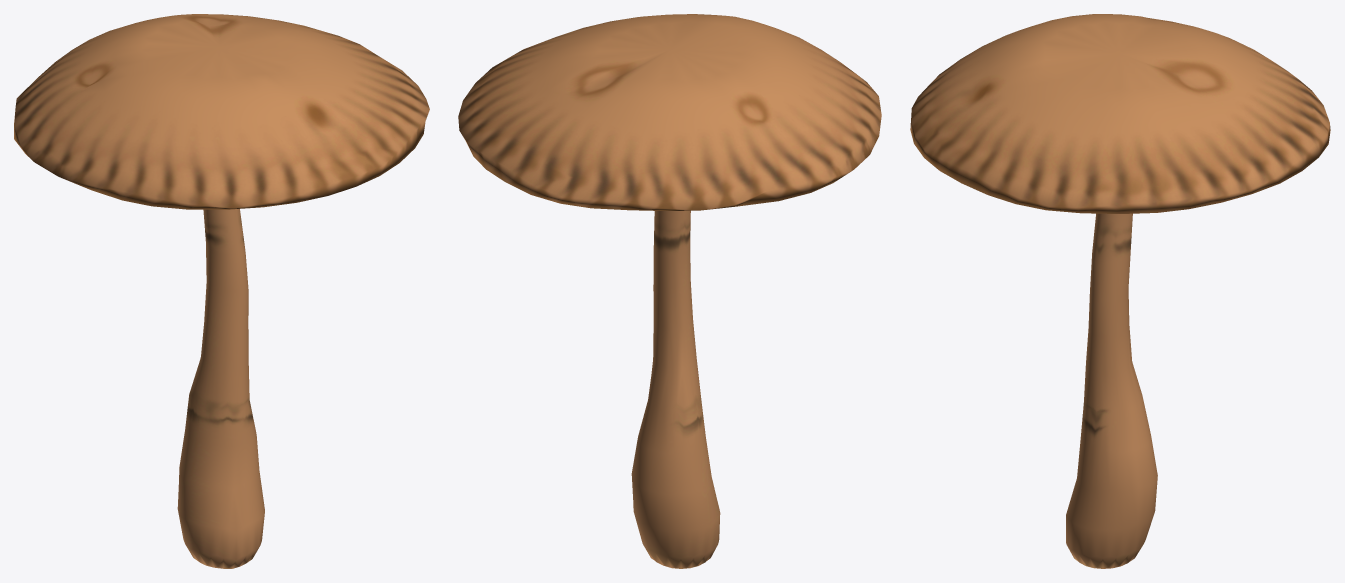
File: BrownMushroom.fbx
3 renders of one model, left to right at view 1: azimuth 30°, elevation 25°; view 2: azimuth 150°, elevation 25°; view 3: azimuth 270°, elevation 25°, orthographic.
Parts seen in each view (by area): view 1: Tan_Mushrooms_LowPoly:Group1; view 2: Tan_Mushrooms_LowPoly:Group1; view 3: Tan_Mushrooms_LowPoly:Group1.
Boxes of the visible parts, bbox=[...] form: Tan_Mushrooms_LowPoly:Group1: bbox=[14, 14, 429, 568]; Tan_Mushrooms_LowPoly:Group1: bbox=[458, 14, 881, 568]; Tan_Mushrooms_LowPoly:Group1: bbox=[910, 14, 1330, 568].
Size of the model in its own units: 40.45 by 54.38 by 40.54.
Materials: 1 (1 with a texture image).
